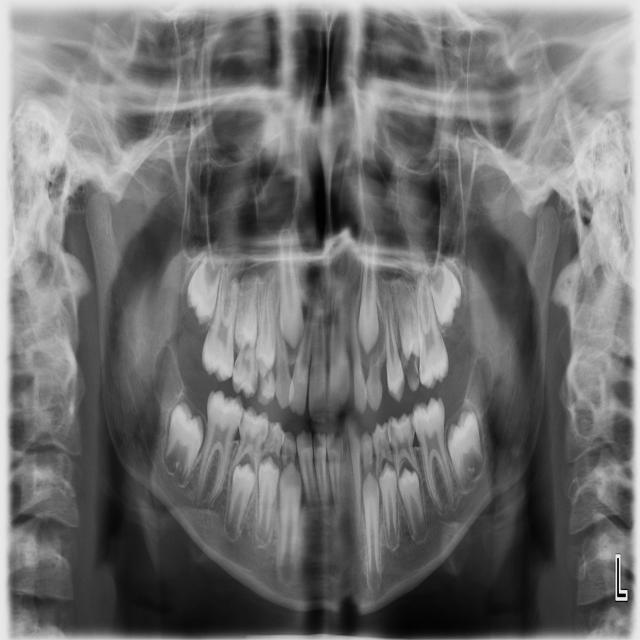mandibula: (89, 194, 561, 611)
